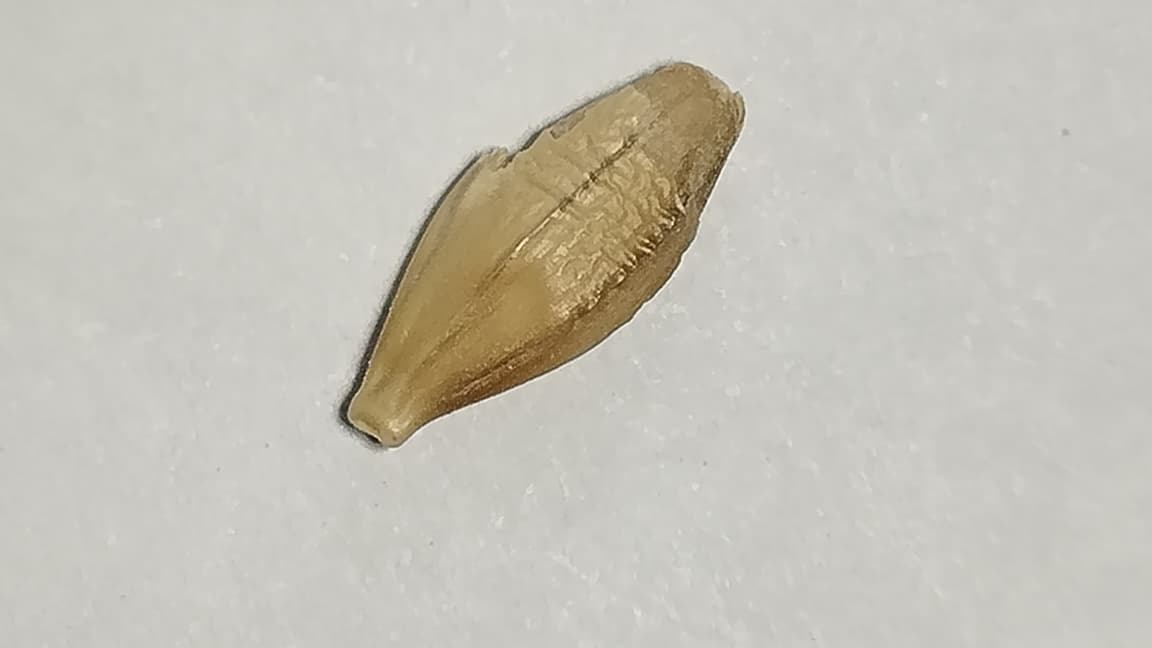healthy-70-60: (347, 64, 743, 444)
